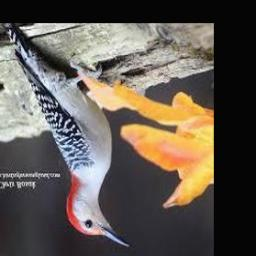Woodpecker: (0, 23, 129, 248)
